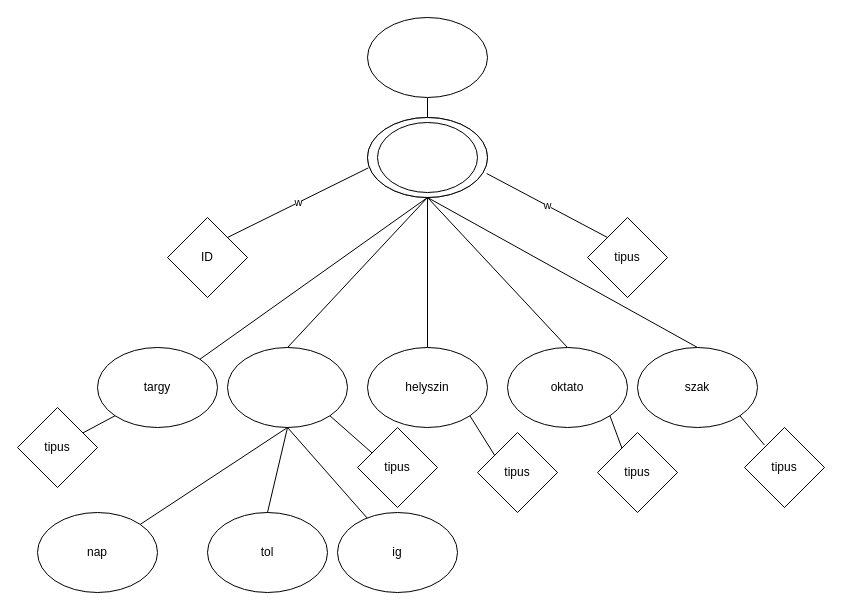
This 842x610 diagram has some shape labels left out. Here are the shapes that lost their labels. From the top down, the box of each, then its label:
(366, 16, 488, 98): XML_orarend
(376, 122, 478, 192): ora
(226, 346, 348, 428): idopont
